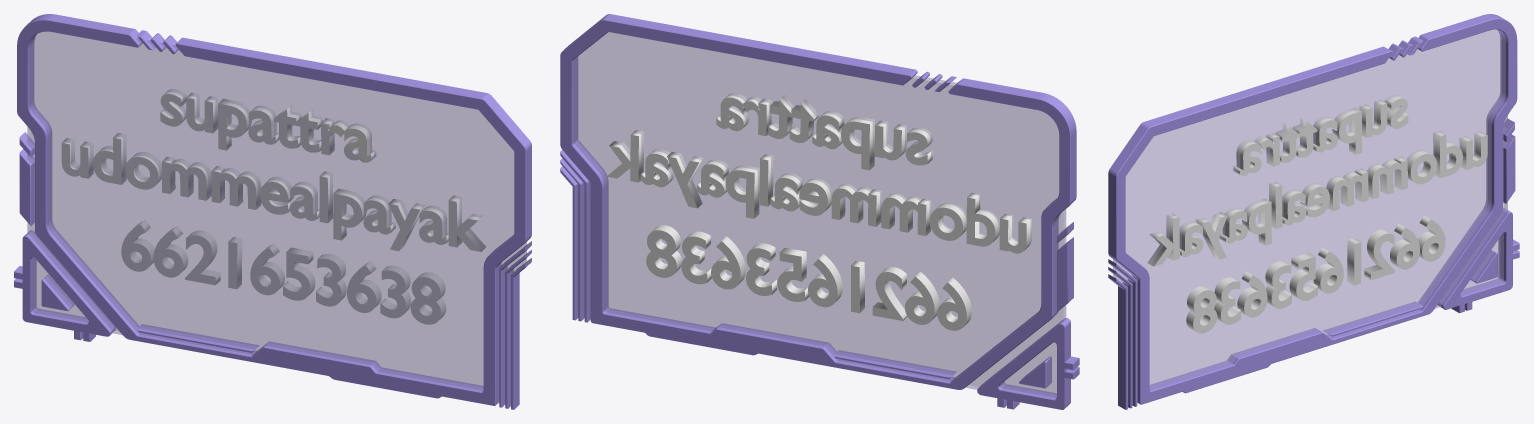
Rendered from nname.glb.
The picture shows the model from 3 angles, left to right: view 1: azimuth 30°, elevation 25°; view 2: azimuth 210°, elevation 25°; view 3: azimuth 270°, elevation 25°; orthographic projection. The views are drawn at different scales.
Parts seen in each view (by area): view 1: Extrude_2, Extrude_4, Text.002, Text.001, Text; view 2: Extrude_2, Extrude_4, Text.002, Text.001, Text; view 3: Extrude_2, Extrude_4, Text.002, Text.001, Text.
Part boxes in pixels (x1,y1,x2,y2): Extrude_2: (27,31,526,405); Extrude_4: (14,14,531,409); Text.002: (61,133,485,251); Text.001: (121,220,445,324); Text: (160,89,375,162); Extrude_2: (565,32,1066,397); Extrude_4: (560,14,1079,409); Text.002: (606,130,1031,253); Text.001: (646,225,971,330); Text: (716,93,932,170); Extrude_2: (1113,29,1507,403); Extrude_4: (1108,14,1519,409); Text.002: (1147,131,1487,266); Text.001: (1186,216,1445,333); Text: (1233,95,1408,175).
Size of the model in its own units: 4.91 by 4.95 by 6.49.
